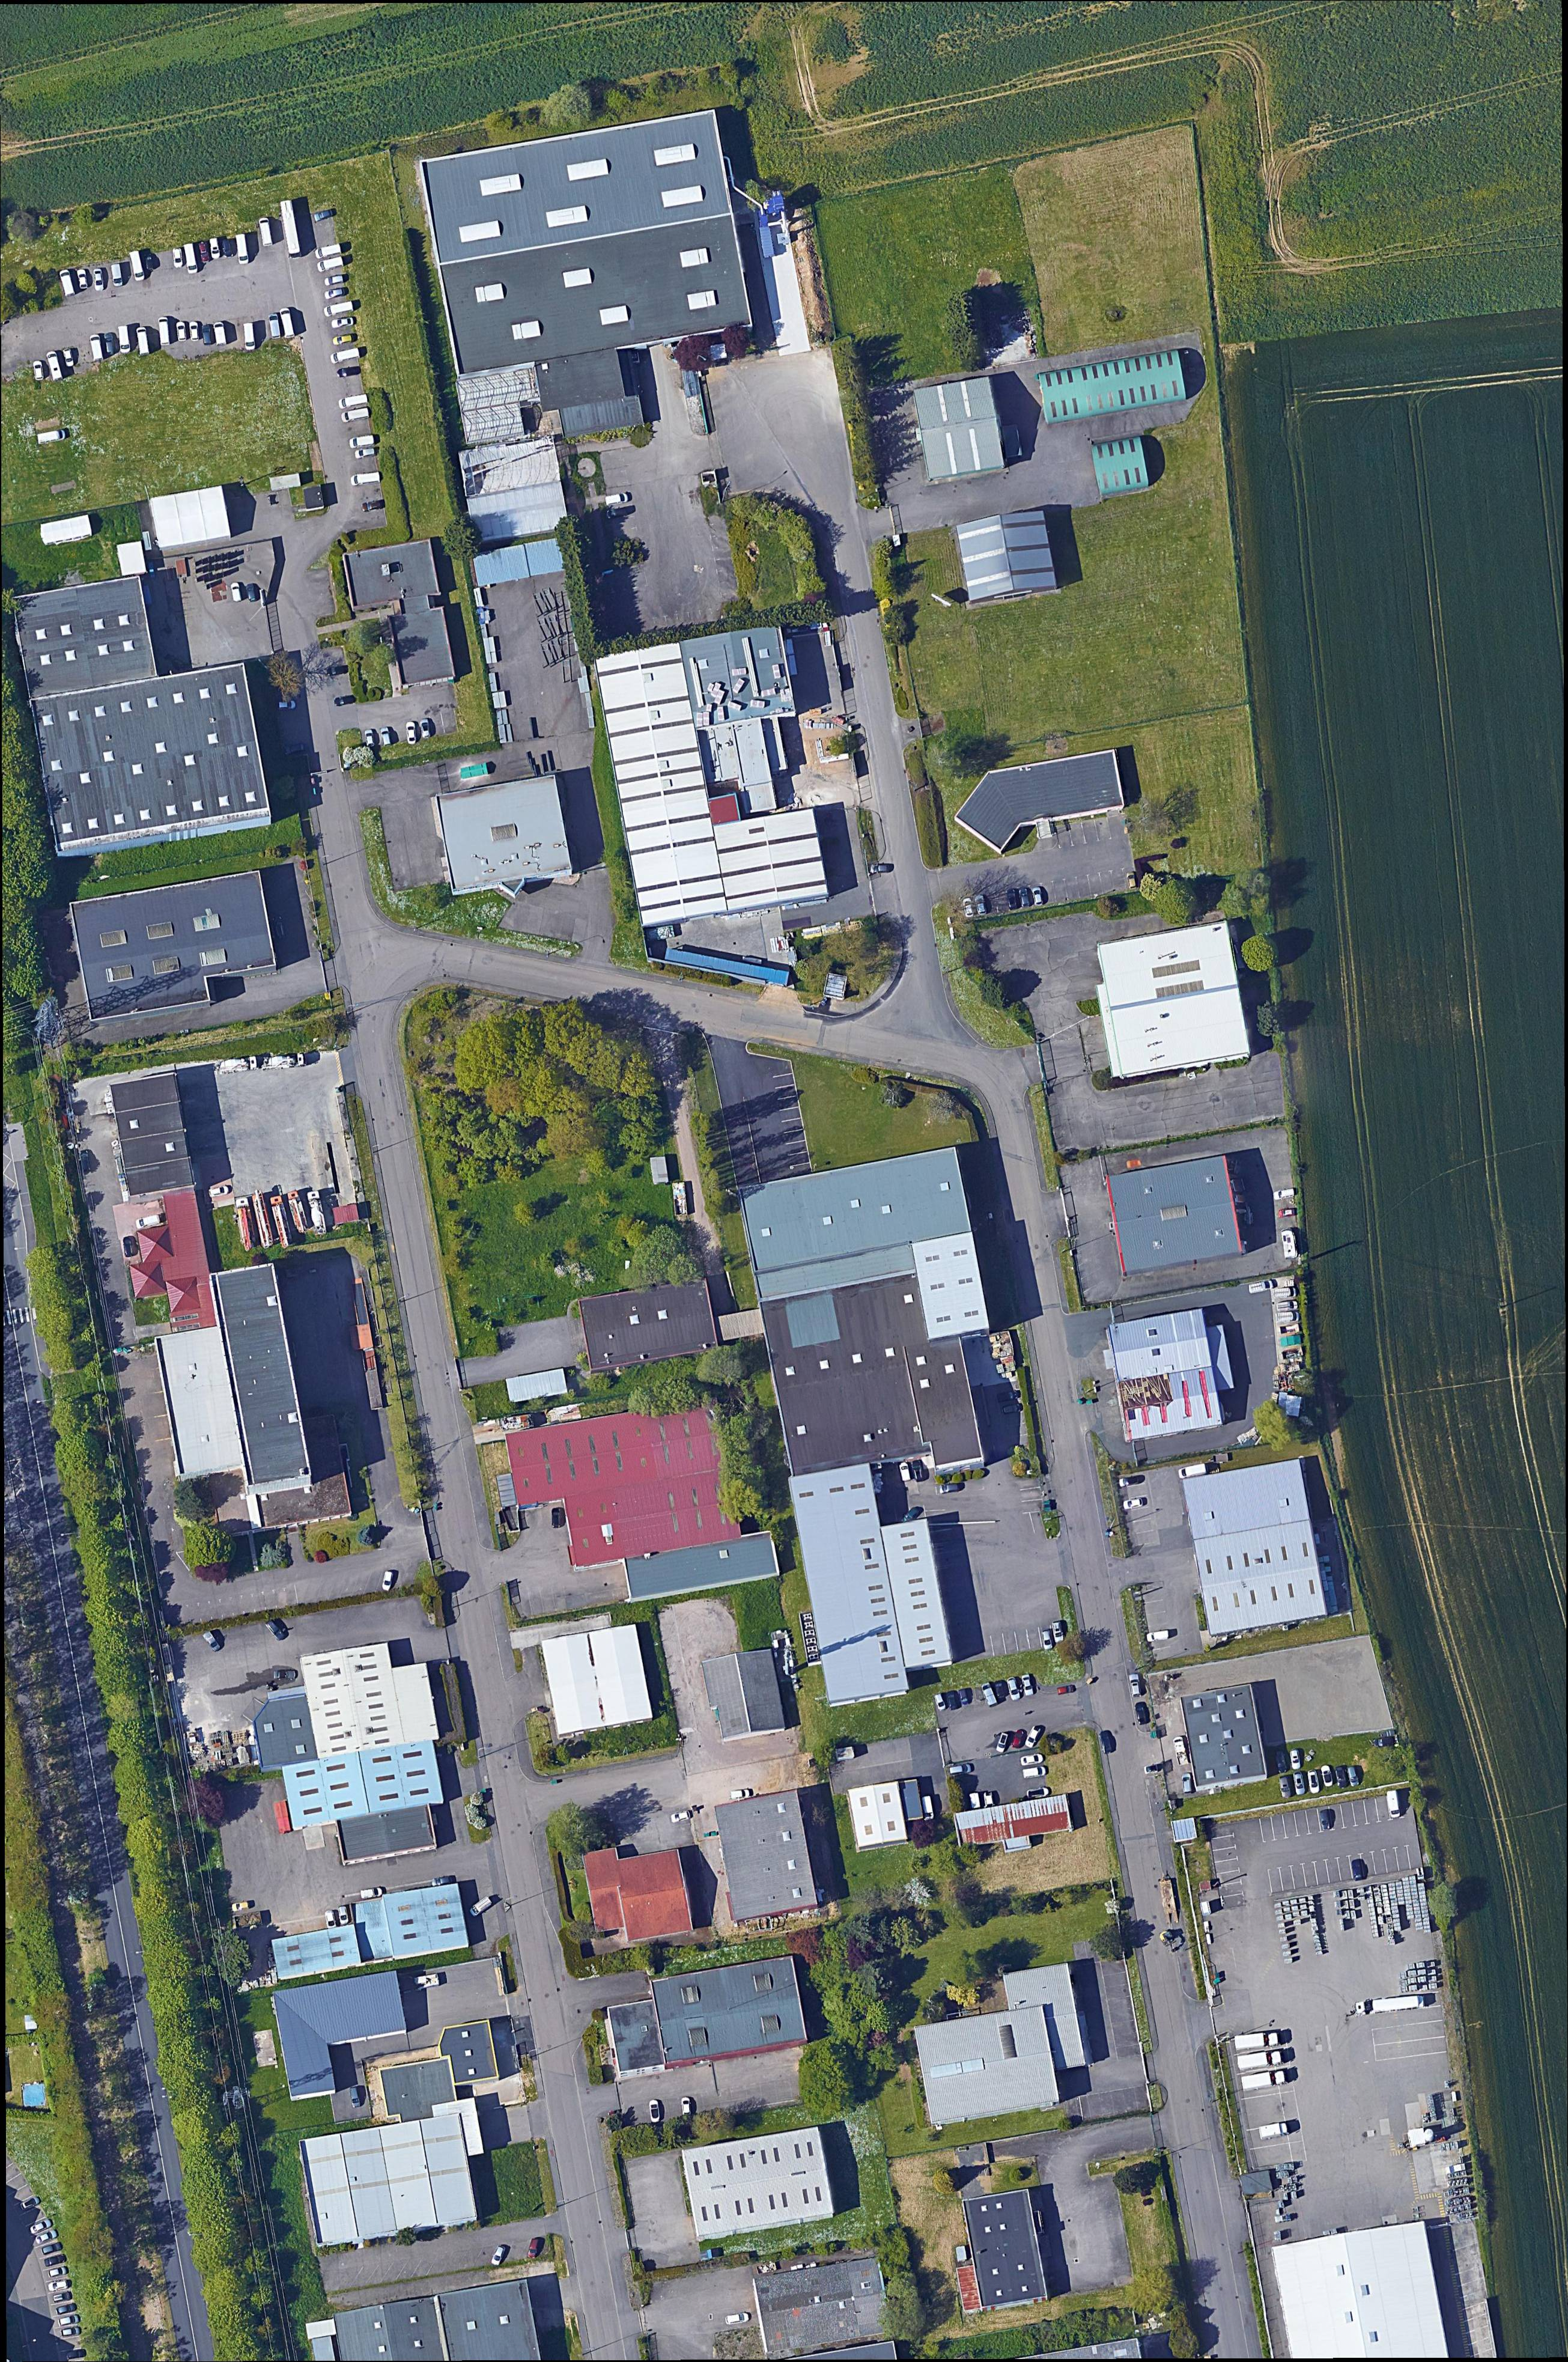large vehicle: (1354, 1994, 1422, 2017), (278, 197, 302, 261), (269, 1194, 297, 1249), (251, 1187, 275, 1250), (234, 1196, 258, 1252), (1238, 2068, 1288, 2092), (1232, 2027, 1280, 2052), (285, 1189, 310, 1234), (306, 1189, 329, 1238), (1236, 2048, 1284, 2071), (214, 1055, 261, 1077), (261, 1052, 308, 1071), (1257, 2120, 1290, 2140), (323, 299, 355, 319), (44, 350, 64, 380), (1173, 1735, 1191, 1767), (341, 406, 369, 425), (314, 242, 342, 261), (315, 255, 345, 273), (183, 242, 199, 275), (129, 251, 145, 282), (280, 307, 297, 339), (470, 1895, 494, 1917), (338, 393, 369, 410), (330, 348, 360, 366), (36, 428, 67, 445), (350, 470, 381, 486), (1386, 1789, 1403, 1819), (1178, 1463, 1208, 1479), (235, 234, 251, 264), (58, 269, 76, 296), (117, 324, 132, 354), (259, 216, 274, 245), (135, 328, 150, 356), (604, 492, 630, 507), (89, 335, 103, 361), (243, 323, 256, 350), (159, 317, 171, 345), (213, 322, 228, 345), (268, 313, 281, 338), (349, 436, 374, 449), (922, 1795, 934, 1821), (111, 264, 124, 286)
small vehicle: (263, 1616, 288, 1643), (979, 1679, 1000, 1709), (27, 2217, 55, 2237), (33, 2228, 61, 2247), (134, 1214, 162, 1231), (1024, 1725, 1044, 1750), (202, 1631, 222, 1654), (489, 2244, 509, 2268), (947, 1761, 973, 1778), (1117, 1475, 1145, 1491), (18, 2193, 42, 2212), (901, 1506, 922, 1526), (39, 2241, 64, 2257), (994, 1731, 1010, 1757), (1272, 1186, 1298, 1202), (909, 1458, 926, 1483), (312, 207, 335, 225), (41, 2253, 67, 2269), (1038, 1628, 1056, 1651), (1307, 1768, 1322, 1795), (1120, 1497, 1148, 1511), (937, 1481, 963, 1496), (1293, 1771, 1308, 1796), (1007, 1676, 1023, 1701), (997, 1389, 1023, 1404), (1023, 1764, 1048, 1779), (896, 1461, 913, 1483), (1146, 1628, 1171, 1643), (380, 1569, 396, 1592), (1274, 1311, 1299, 1326), (56, 2313, 81, 2328), (526, 2237, 542, 2260), (724, 2312, 750, 2326), (869, 862, 895, 876), (332, 332, 357, 347), (1275, 1749, 1290, 1774), (1249, 1280, 1273, 1295), (53, 2302, 77, 2317), (349, 2085, 364, 2109), (1020, 1752, 1044, 1767), (1031, 884, 1046, 909), (976, 893, 991, 918), (1320, 1763, 1334, 1789), (1128, 1672, 1142, 1698), (358, 1887, 384, 1901), (669, 1809, 692, 1825), (330, 315, 355, 329), (333, 693, 357, 707), (933, 1691, 949, 1712), (1348, 1765, 1363, 1787), (1135, 1702, 1149, 1726), (1021, 1673, 1036, 1697), (46, 2278, 70, 2292), (59, 2324, 82, 2339), (324, 664, 350, 677), (1007, 886, 1020, 912), (1272, 1286, 1297, 1300), (321, 273, 345, 288), (1335, 1766, 1349, 1789), (1099, 1730, 1113, 1754), (431, 1873, 453, 1889), (404, 722, 418, 746), (1279, 1775, 1293, 1799), (1027, 1785, 1051, 1799), (1351, 1859, 1365, 1882), (50, 2290, 73, 2305), (46, 2265, 68, 2280), (336, 367, 362, 379), (220, 238, 235, 260), (1373, 1735, 1396, 1749), (229, 581, 243, 603), (103, 332, 117, 355), (272, 1669, 297, 1681), (355, 446, 377, 459), (1319, 1809, 1332, 1831), (1001, 1402, 1023, 1415), (324, 287, 345, 301), (208, 236, 220, 260), (649, 2099, 661, 2123), (360, 501, 383, 514), (1275, 1300, 1298, 1312), (419, 718, 432, 741), (1011, 1728, 1026, 1748), (964, 896, 976, 920), (1143, 1762, 1165, 1775), (1018, 886, 1031, 909), (283, 743, 306, 755), (75, 269, 88, 290), (946, 1690, 958, 1711), (66, 2348, 88, 2360), (338, 1905, 351, 1926), (1125, 869, 1138, 890), (228, 1900, 251, 1912), (121, 1237, 134, 1258), (380, 726, 392, 747), (201, 325, 213, 347), (245, 583, 258, 603), (187, 321, 200, 342), (32, 361, 44, 382), (63, 348, 76, 368), (552, 1508, 562, 1530), (175, 321, 187, 342), (1291, 1748, 1302, 1770), (94, 269, 104, 292), (363, 728, 375, 748), (731, 1788, 750, 1800), (1182, 1772, 1193, 1794), (325, 1909, 337, 1928), (174, 249, 184, 270), (959, 1688, 971, 1707), (276, 701, 297, 711), (681, 2096, 691, 2117), (1277, 1208, 1296, 1218), (144, 254, 154, 273), (994, 1679, 1004, 1698), (1057, 1684, 1075, 1695)
